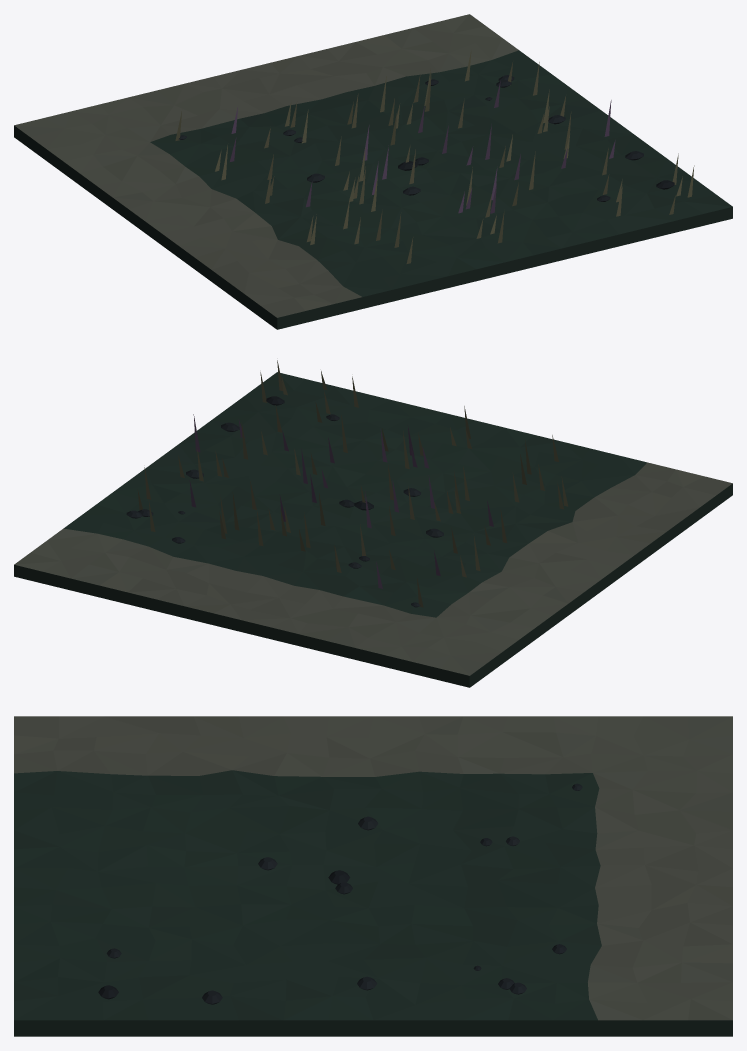
Rendered from CHUNK_abandoned_village__flooded_well_hamlet__11.glb.
3 renders of one model, top to bottom at view 1: azimuth 30°, elevation 25°; view 2: azimuth 150°, elevation 25°; view 3: azimuth 270°, elevation 25°, orthographic. The views are drawn at different scales.
Parts seen in each view (by area): view 1: CHUNK_abandoned_village__flooded_well_hamlet__11; view 2: CHUNK_abandoned_village__flooded_well_hamlet__11; view 3: CHUNK_abandoned_village__flooded_well_hamlet__11.
Boxes of the visible parts, x1,y1,x2,y2 form: CHUNK_abandoned_village__flooded_well_hamlet__11: (14,14,732,329); CHUNK_abandoned_village__flooded_well_hamlet__11: (14,360,732,687); CHUNK_abandoned_village__flooded_well_hamlet__11: (14,716,732,1036).
Size of the model in its own units: 8 by 0.8706 by 8.
